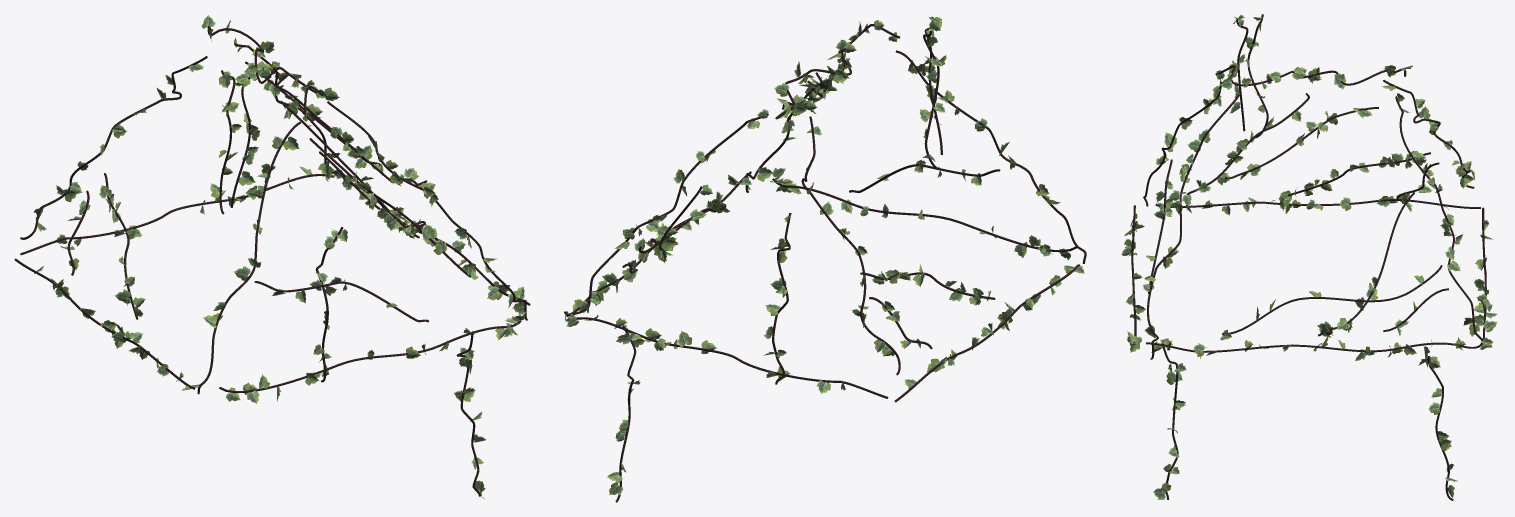
The model's file is bluszcz_chatka.fbx.
3 renders of one model, left to right at view 1: azimuth 30°, elevation 25°; view 2: azimuth 150°, elevation 25°; view 3: azimuth 270°, elevation 25°, orthographic. The views are drawn at different scales.
Parts seen in each view (by area): view 1: liscie, lodygi; view 2: liscie, lodygi; view 3: liscie, lodygi.
Boxes of the visible parts, x1,y1,x2,y2 form: liscie: (33, 15, 525, 498); lodygi: (14, 25, 530, 496); liscie: (565, 17, 1084, 495); lodygi: (564, 17, 1086, 502); liscie: (1121, 15, 1497, 499); lodygi: (1131, 14, 1486, 500).
Bounding box in the file's own units: 357 × 418 × 364.
